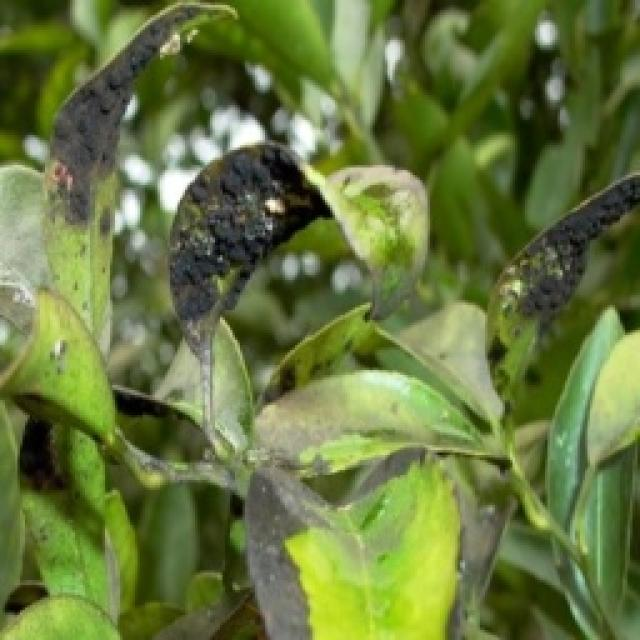Sooty Mold: (27, 26, 412, 626)
